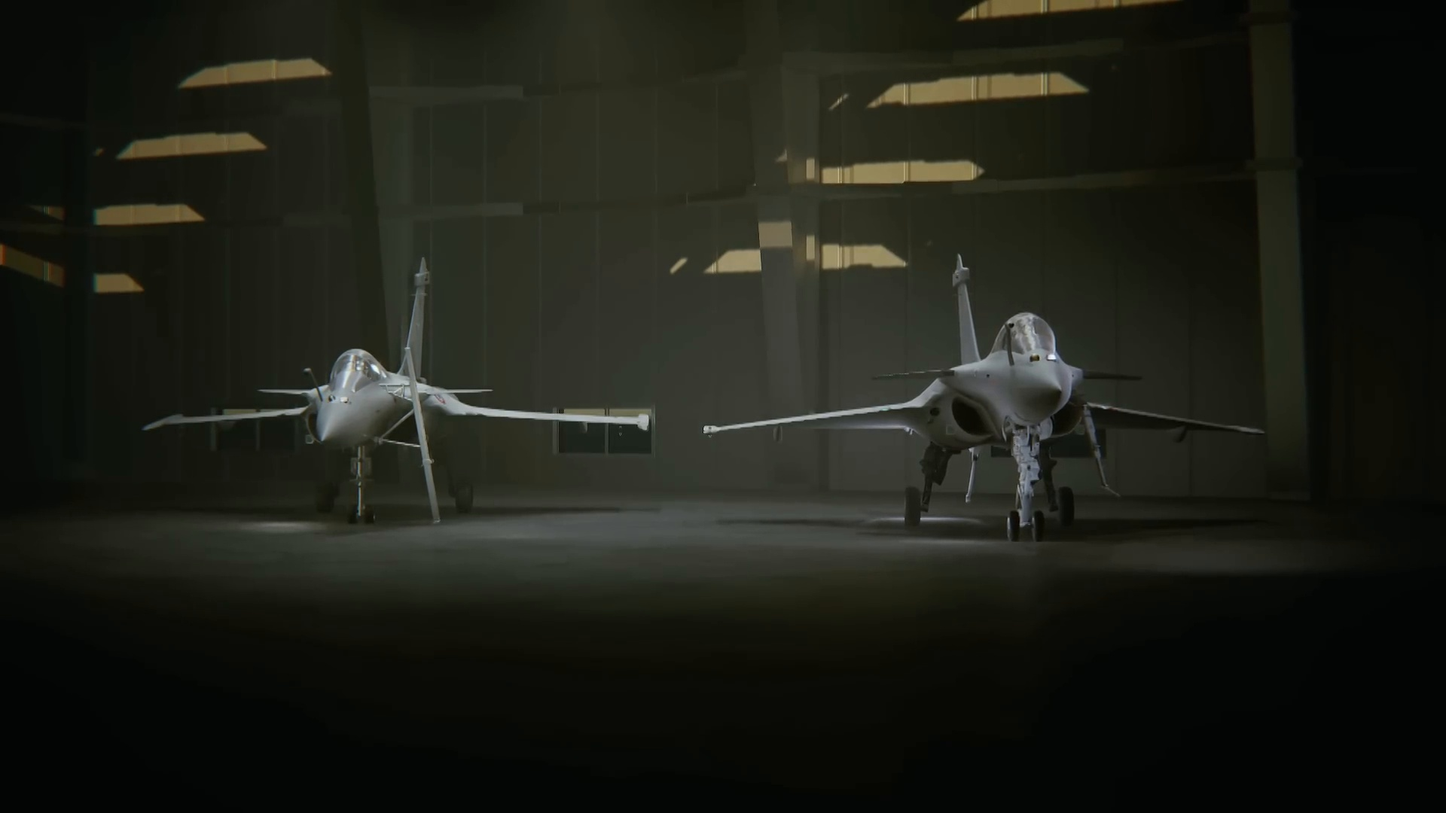Rafale: (695, 242, 1269, 552), (132, 245, 656, 535)
